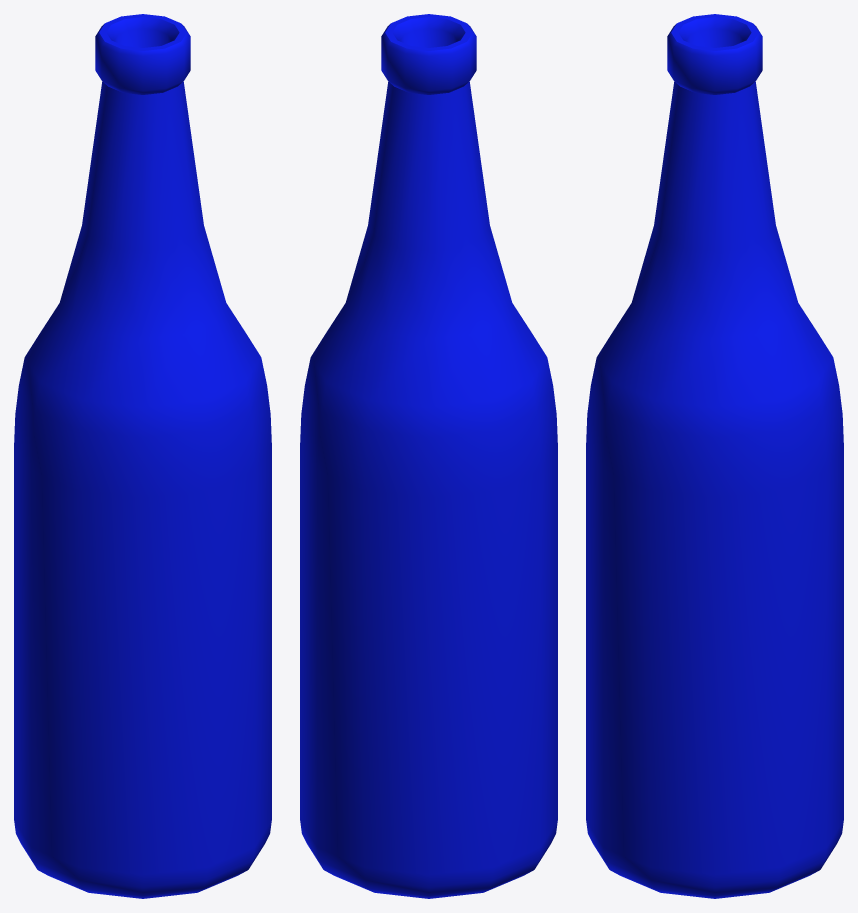
The model's file is bottle.FBX.
The picture shows the model from 3 angles, left to right: view 1: azimuth 30°, elevation 25°; view 2: azimuth 150°, elevation 25°; view 3: azimuth 270°, elevation 25°; orthographic projection.
Parts seen in each view (by area): view 1: bottle_LP; view 2: bottle_LP; view 3: bottle_LP.
Boxes of the visible parts, <box> form: bottle_LP: <box>14,14,271,898</box>; bottle_LP: <box>300,14,557,898</box>; bottle_LP: <box>586,14,843,898</box>.
Bounding box in the file's own units: 6.29 × 22.09 × 6.29.
